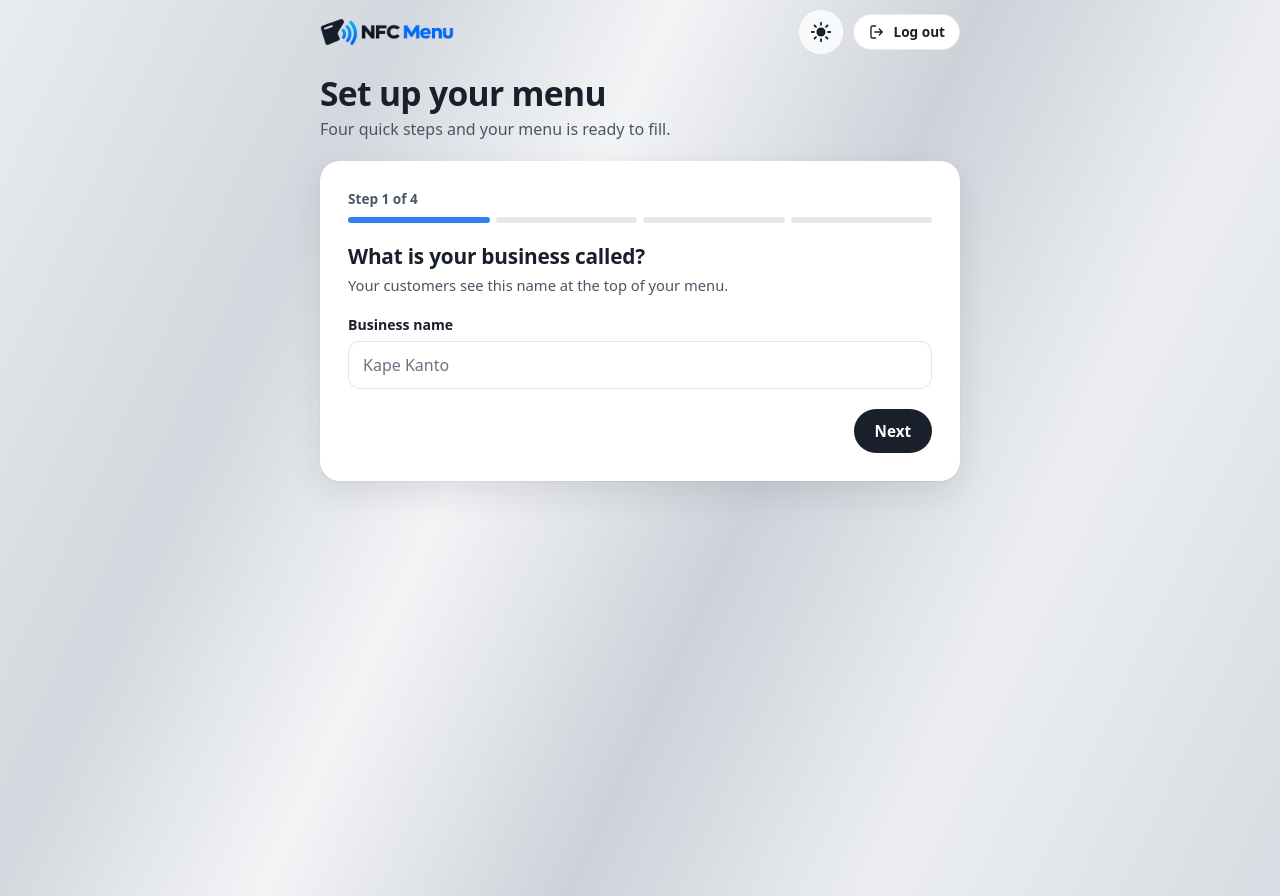
Journey 1: a new owner and the setup wizard › makes a menu with categories and add-ons but no items when the example items are turned off
Type "Tsaa Tayo" into the field labelled "Business name" at (640, 365), box [348,341,932,389]
Click the button "Next" at (893, 431), box [854,409,932,453]
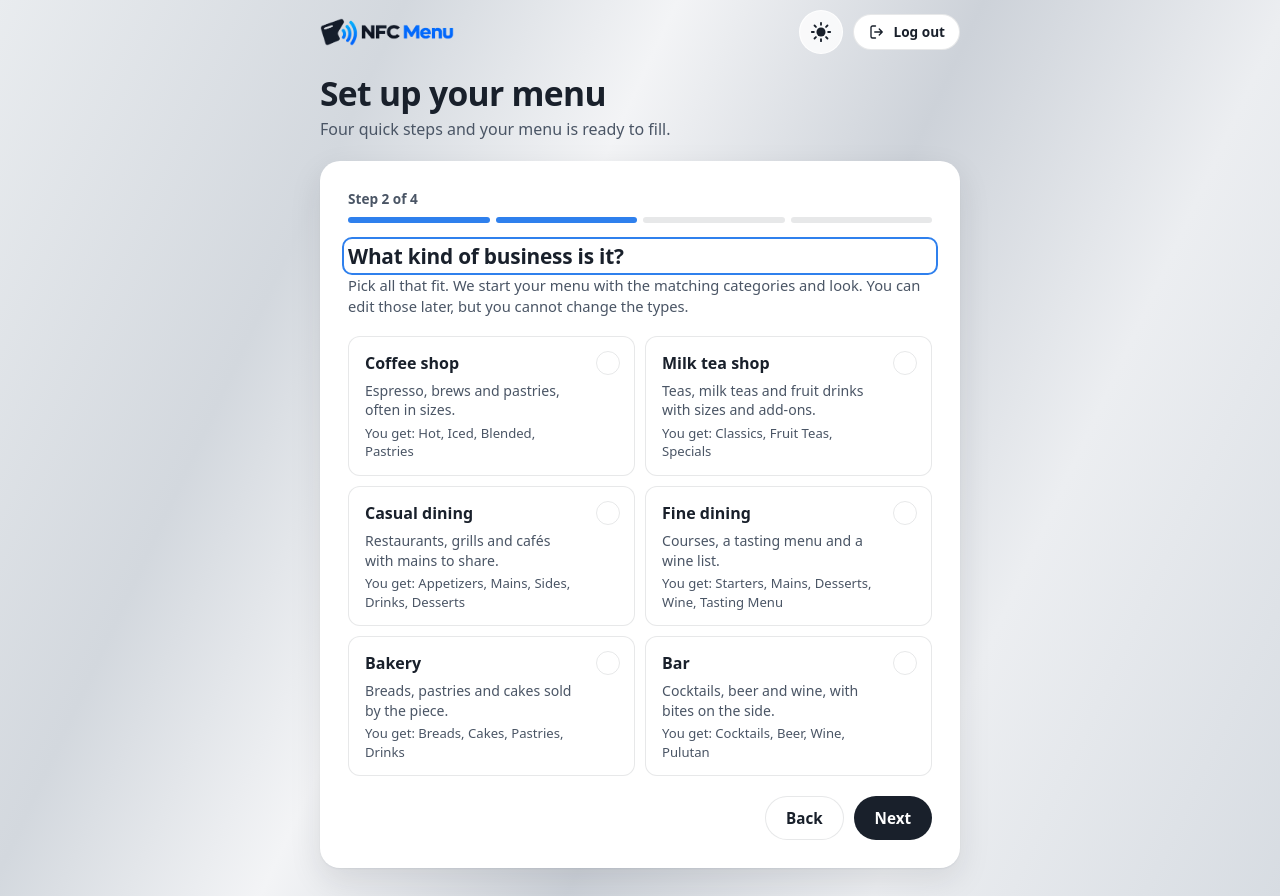
Click the checkbox labelled "Milk tea shop" at (788, 406), box [645,336,932,476]
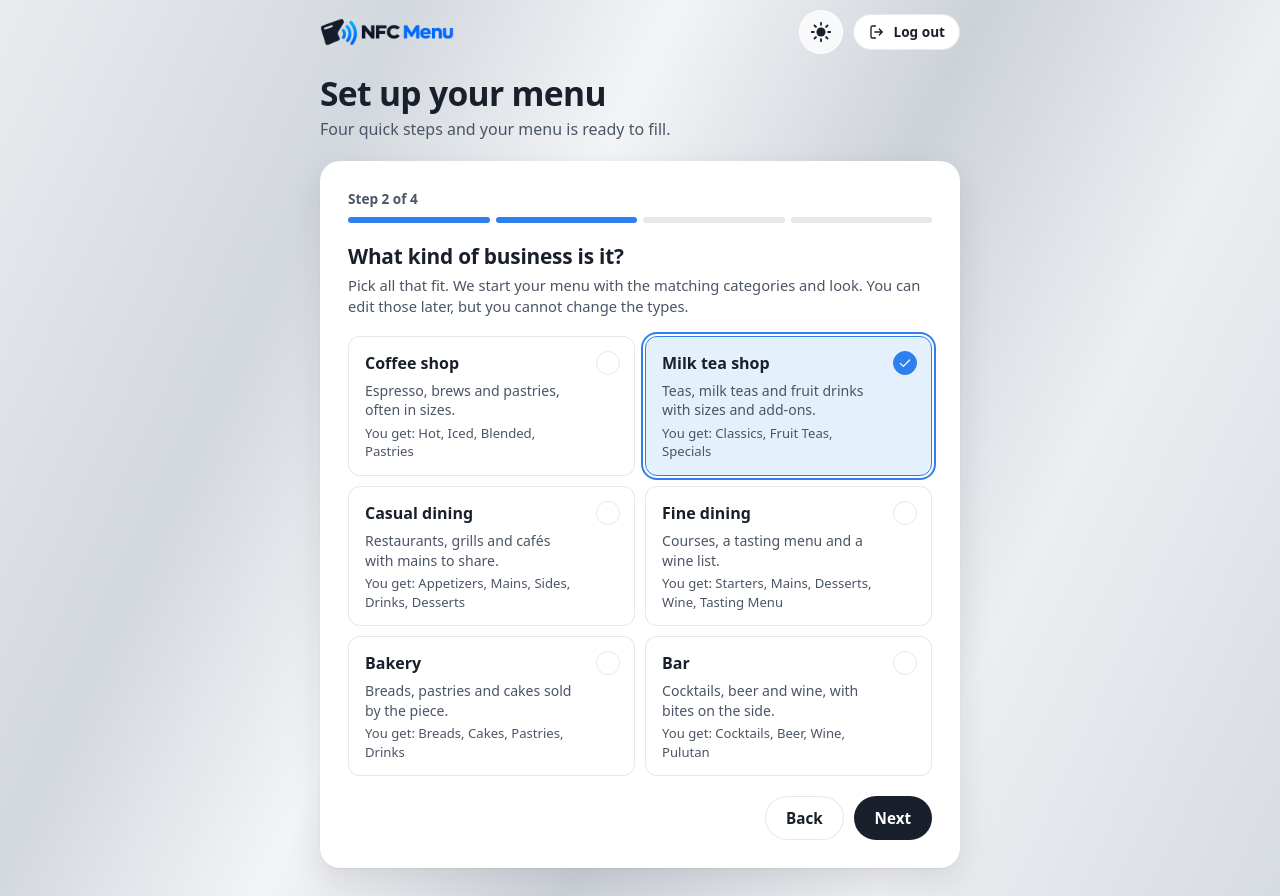
Click the button "Next" at (893, 818), box [854,796,932,840]
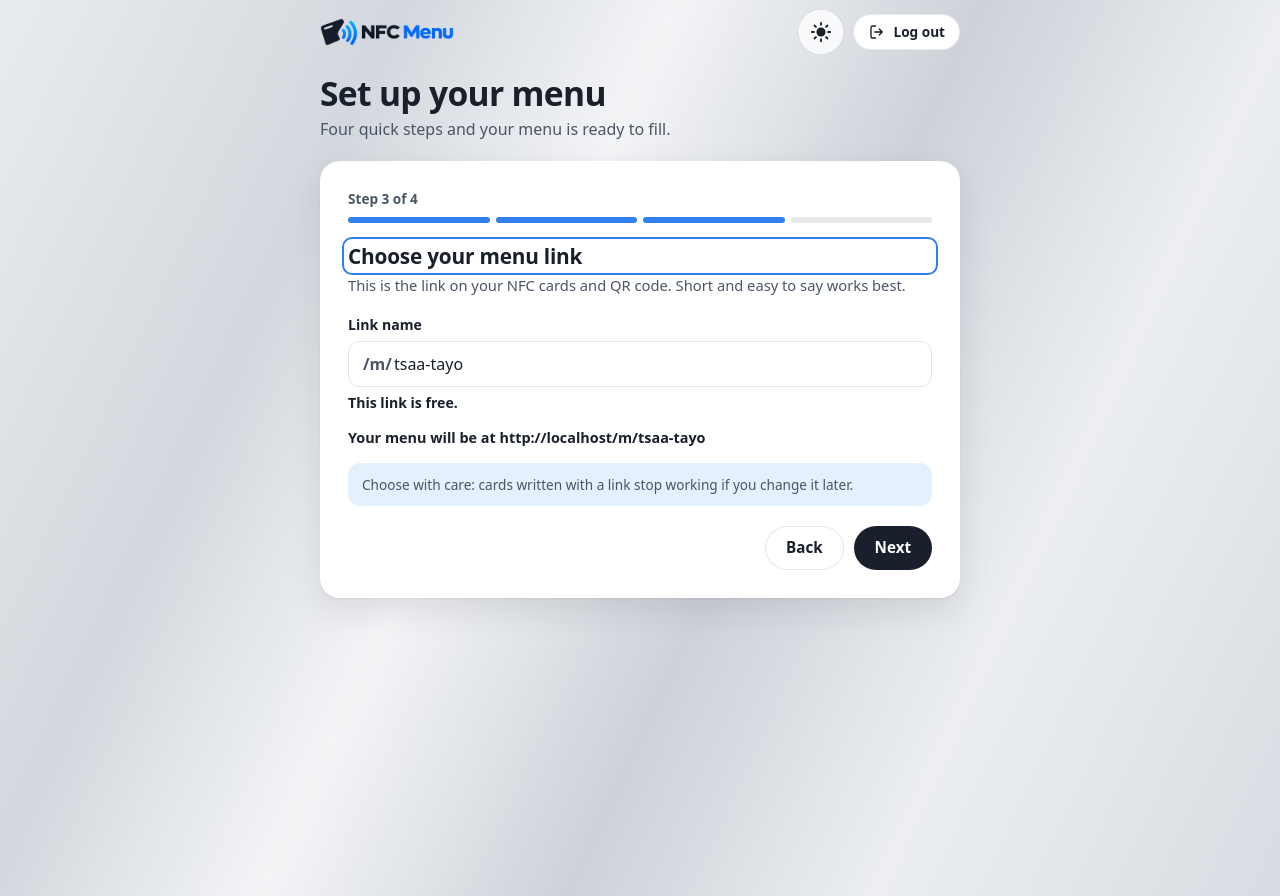
Now the text "This link is free." is shown, box [348,393,458,413]
Click the button "Next" at (893, 548), box [854,526,932,570]
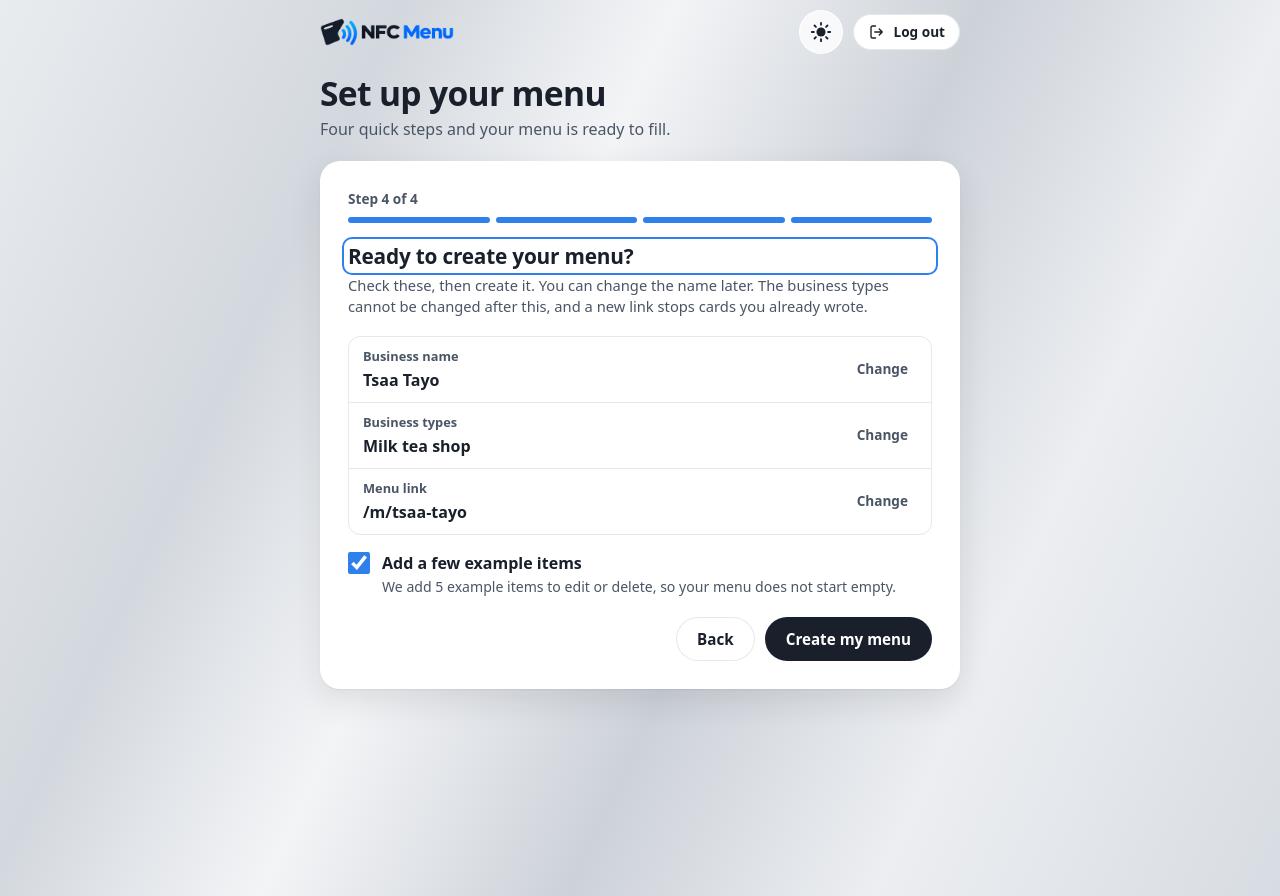
Click the checkbox labelled "Add a few example items" at (359, 563), box [348,552,370,574]
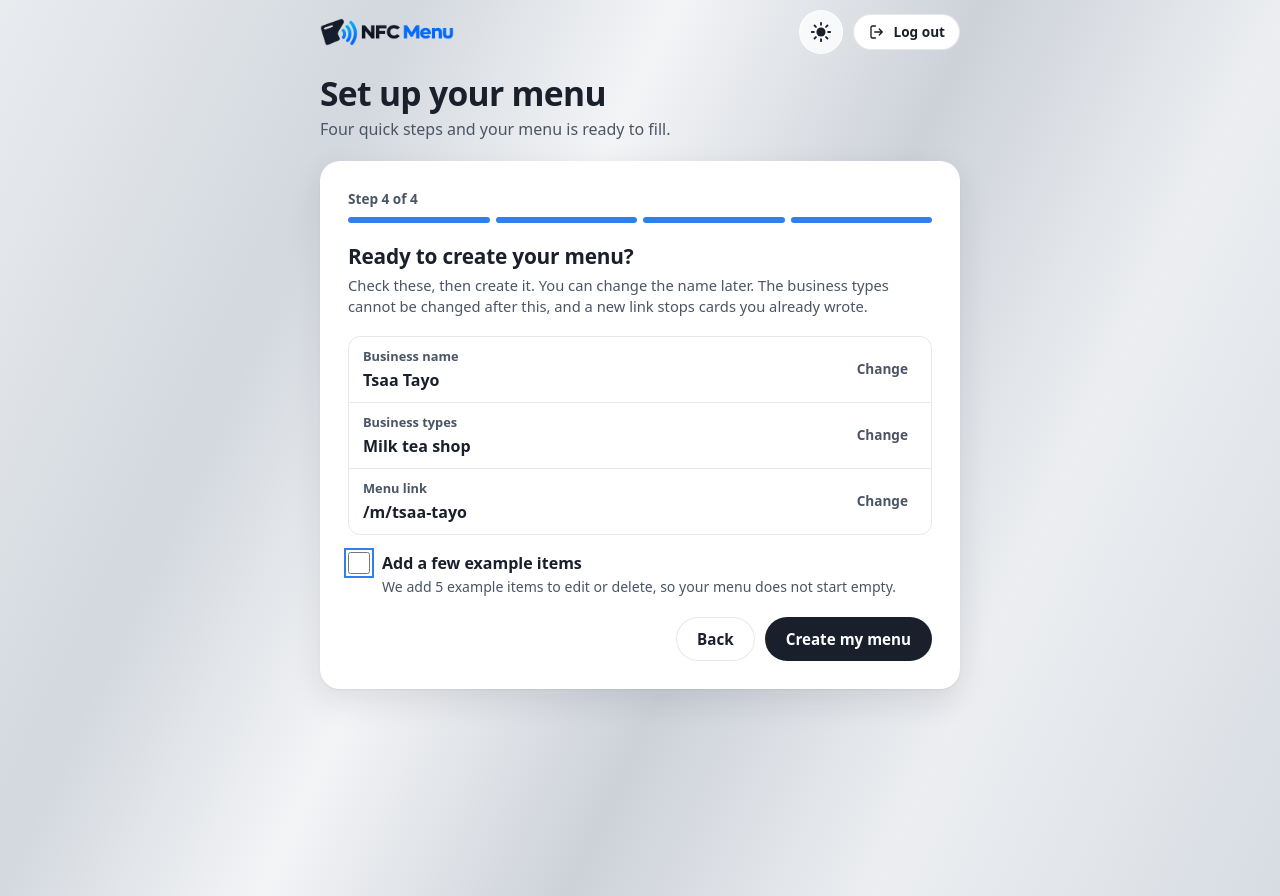
Click the button "Create my menu" at (848, 639), box [765,617,932,661]
(page scrolled)
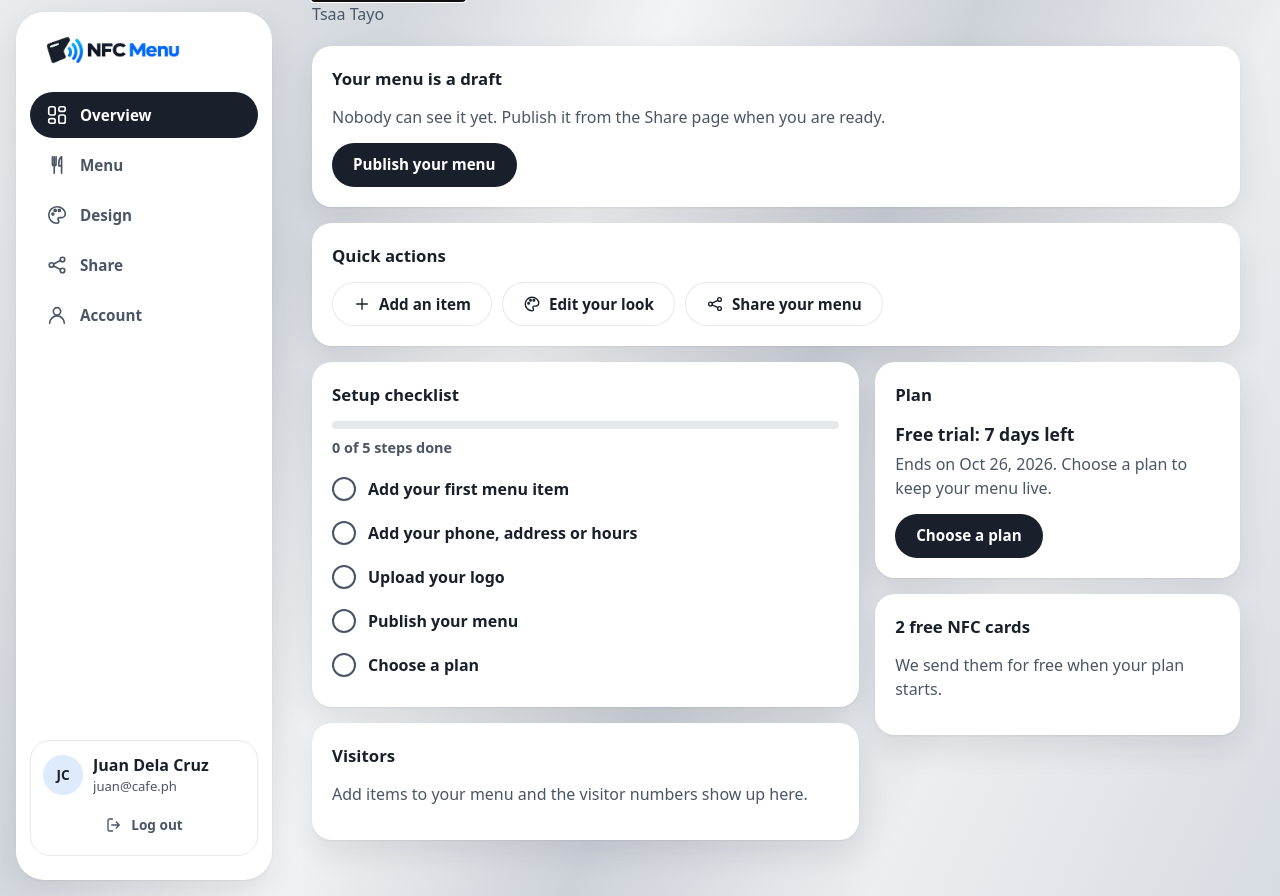
Now the text "Add items to your menu and the visitor numbers show up here." is shown, box [332,782,839,806]
